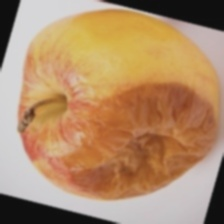apple: (9, 34, 189, 223)
